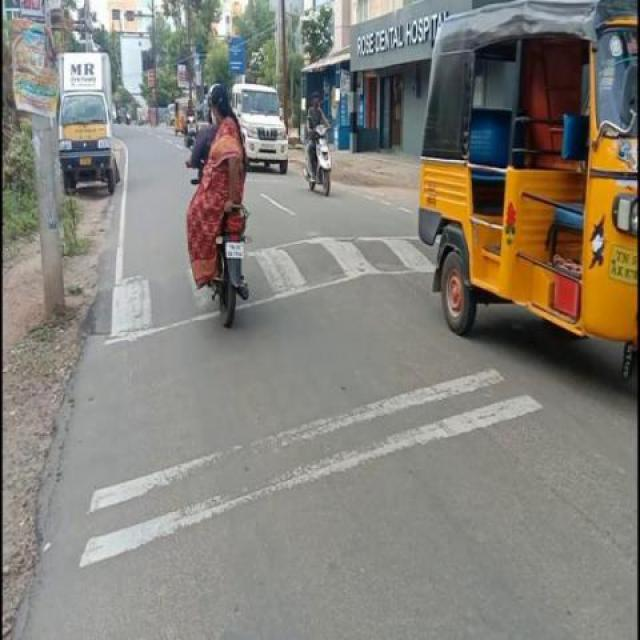Speed Bump: (253, 236, 419, 306), (88, 266, 192, 338)
